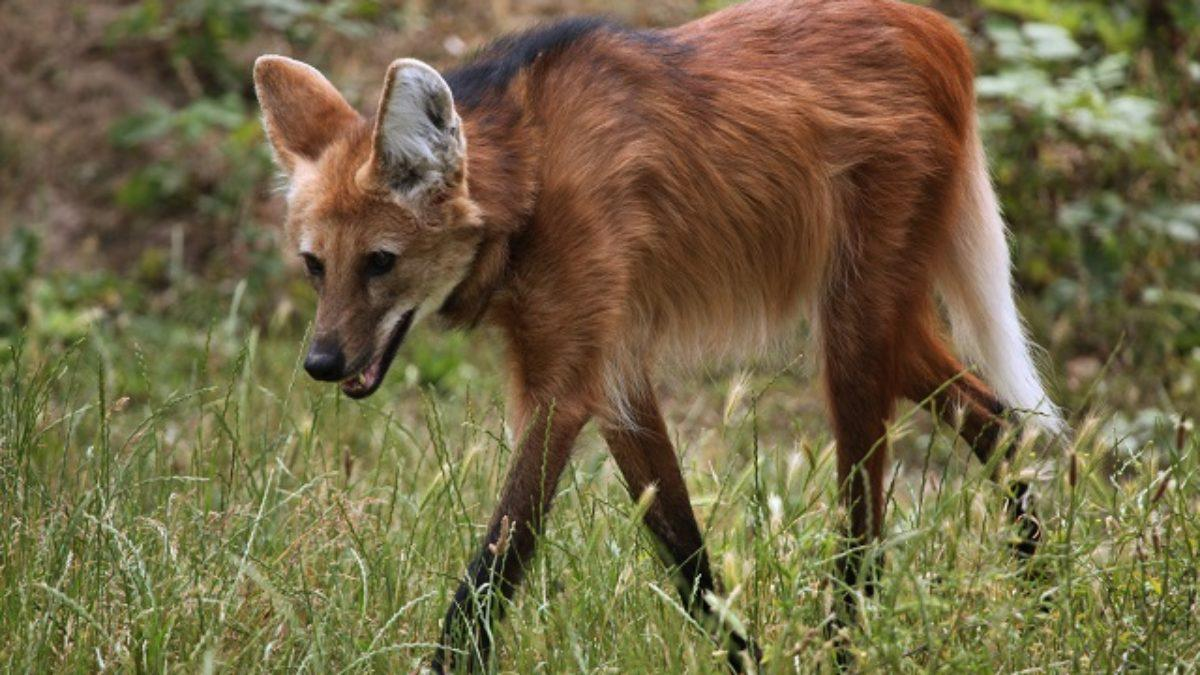LoboGuara: (239, 9, 1068, 638)
